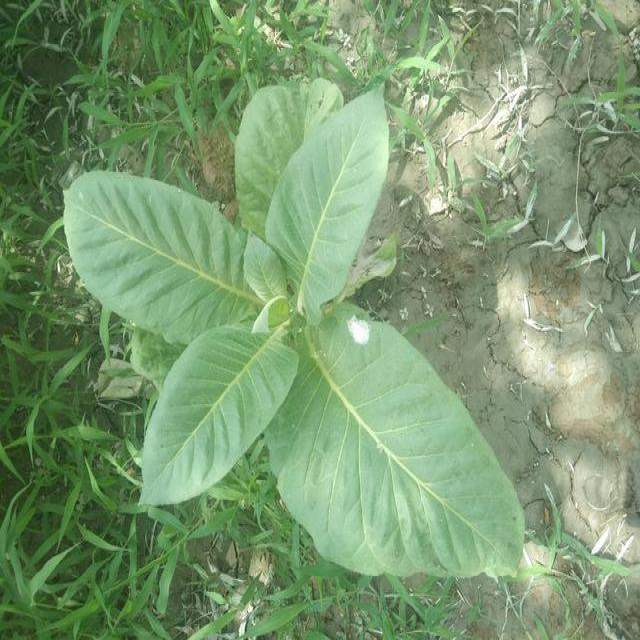crop: (62, 73, 524, 584)
